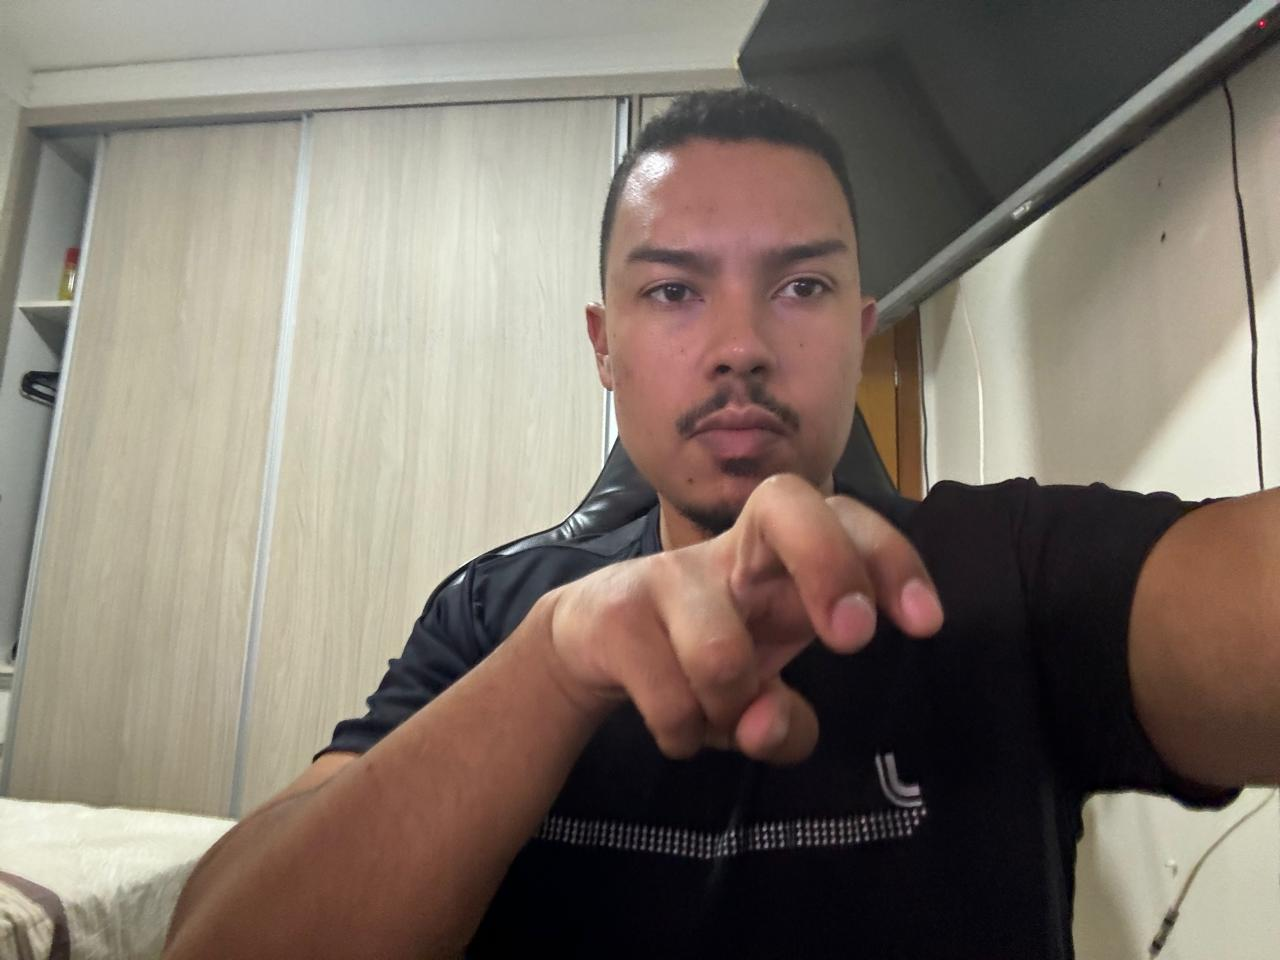n: (533, 460, 954, 813)
